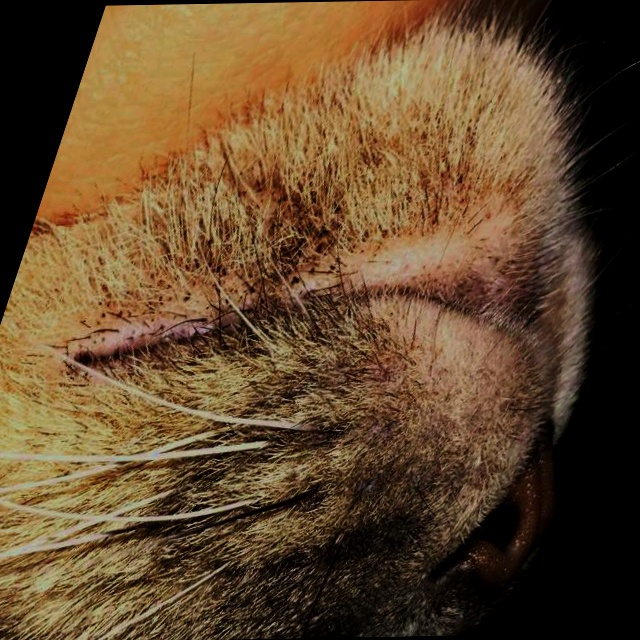acne: (71, 177, 374, 323)
